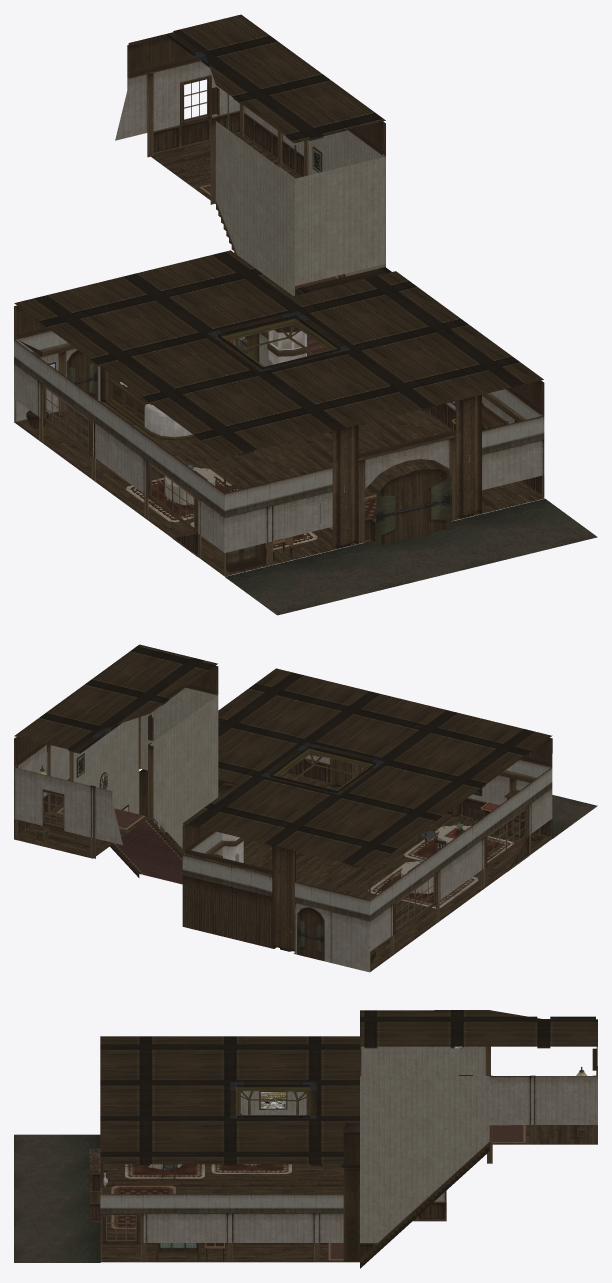
The model's file is Lobby_Compressed.glb.
3 views of the same model, one above another, from view 1: azimuth 30°, elevation 25°; view 2: azimuth 150°, elevation 25°; view 3: azimuth 270°, elevation 25° (orthographic). The views are drawn at different scales.
Visible parts, largest first — view 1: Roof, instance_0.148, instance_0.322, instance_0.762, instance_0.006, instance_0.138, instance_0.345, instance_0.128, instance_0.601, instance_0.600, instance_0.647, instance_0.126 (+18 smaller); view 2: Roof, instance_0.148, instance_0.006, instance_0.762, instance_0.126, instance_0.302, instance_0.138, instance_0.111, instance_0.201, instance_0.602, instance_0.764, instance_0.128 (+23 smaller); view 3: Roof, instance_0.148, instance_0.322, instance_0.762, instance_0.135, instance_0.006, instance_0.149, instance_0.116, instance_0.115, instance_0.319, instance_0.131, instance_0.318 (+16 smaller).
Part boxes in pixels (box(x1,y1,x2,y2)): Roof: box(14, 250, 543, 457); instance_0.148: box(231, 130, 385, 295); instance_0.322: box(225, 498, 597, 615); instance_0.762: box(14, 401, 543, 576); instance_0.006: box(173, 14, 385, 142); instance_0.138: box(40, 358, 198, 497); instance_0.345: box(375, 469, 451, 546); instance_0.128: box(198, 474, 270, 552); instance_0.601: box(455, 395, 481, 519); instance_0.600: box(332, 425, 358, 547); instance_0.647: box(153, 110, 303, 177); instance_0.126: box(14, 331, 68, 422); Roof: box(183, 668, 552, 868); instance_0.148: box(89, 687, 218, 848); instance_0.006: box(14, 644, 217, 750); instance_0.762: box(175, 773, 551, 971); instance_0.126: box(295, 882, 392, 972); instance_0.302: box(182, 875, 272, 948); instance_0.138: box(393, 784, 529, 903); instance_0.111: box(14, 767, 92, 837); instance_0.201: box(112, 817, 182, 884); instance_0.602: box(272, 845, 295, 951); instance_0.764: box(14, 803, 148, 858); instance_0.128: box(513, 760, 552, 834); Roof: box(100, 1036, 359, 1164); instance_0.148: box(360, 1046, 464, 1242); instance_0.322: box(14, 1134, 100, 1262); instance_0.762: box(100, 1164, 359, 1262); instance_0.135: box(143, 1194, 316, 1242); instance_0.006: box(360, 1010, 597, 1046); instance_0.149: box(446, 1076, 489, 1164); instance_0.116: box(489, 1076, 532, 1125); instance_0.115: box(533, 1076, 576, 1124); instance_0.319: box(343, 1167, 359, 1261); instance_0.131: box(316, 1194, 343, 1242); instance_0.318: box(360, 1142, 489, 1268).
Size of the model in its own units: 122 by 98.01 by 233.
49 materials, 48 textured.
